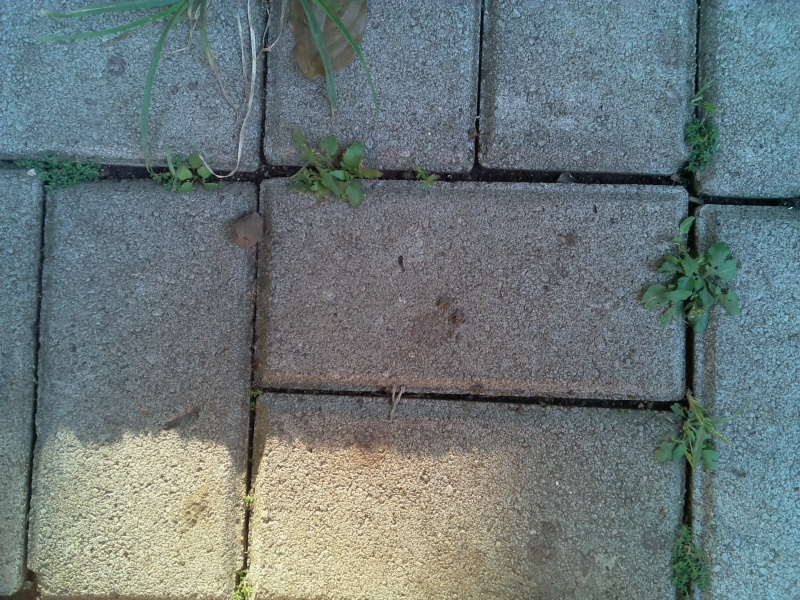Weed: (643, 215, 746, 335), (288, 125, 380, 210), (651, 385, 731, 481), (663, 519, 718, 600), (677, 88, 729, 173), (15, 146, 107, 194), (165, 149, 217, 194), (408, 159, 455, 198), (228, 567, 264, 600), (239, 384, 267, 416), (236, 489, 259, 515)
